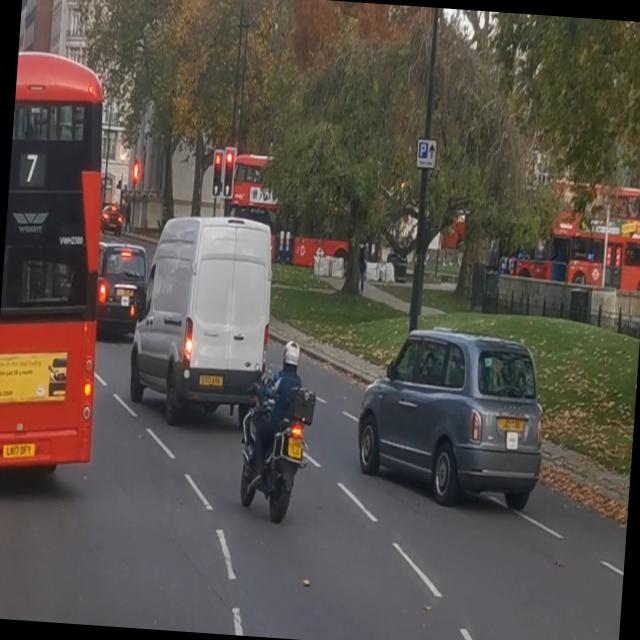Vehicle: (0, 43, 114, 506), (354, 322, 554, 506), (126, 208, 276, 424), (96, 232, 156, 350)
